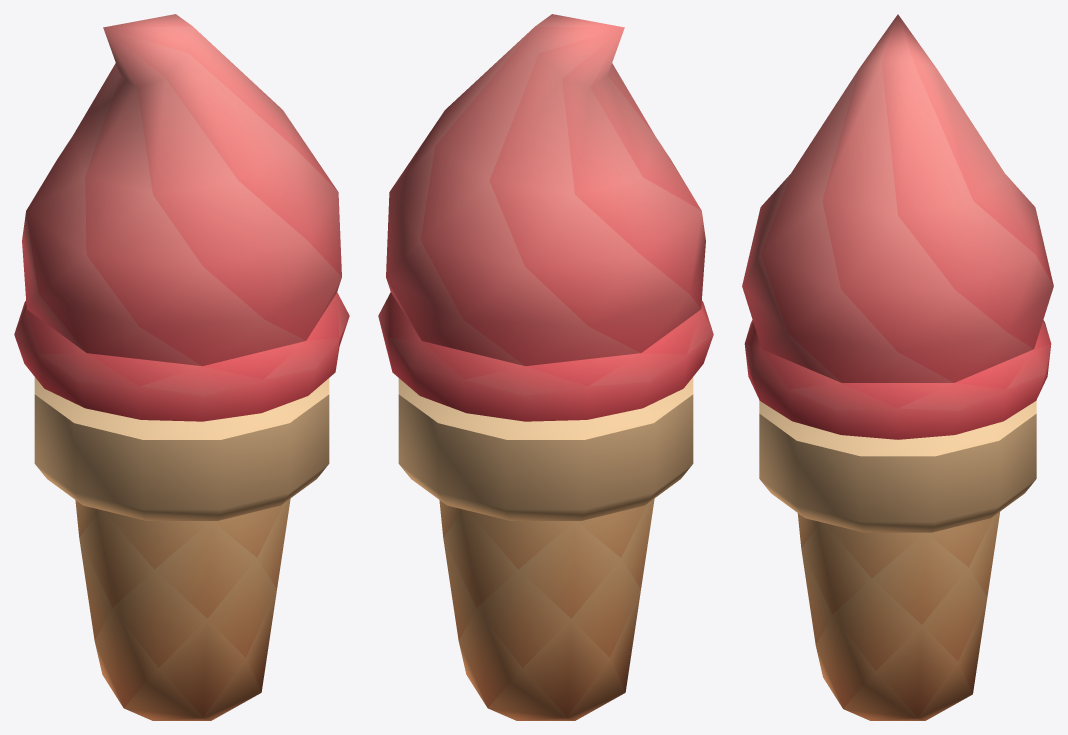
The model's file is food_icecream_cone_strawberry.gltf.
The picture shows the model from 3 angles, left to right: view 1: azimuth 30°, elevation 25°; view 2: azimuth 150°, elevation 25°; view 3: azimuth 270°, elevation 25°; orthographic projection. The views are drawn at different scales.
Parts seen in each view (by area): view 1: food_icecream_cone_strawberry; view 2: food_icecream_cone_strawberry; view 3: food_icecream_cone_strawberry.
Part boxes in pixels (x1,y1,x2,y2): food_icecream_cone_strawberry: (14,14,349,720); food_icecream_cone_strawberry: (378,14,713,720); food_icecream_cone_strawberry: (742,14,1053,720).
Size of the model in its own units: 0.4499 by 1.04 by 0.45.
1 material, 1 textured.
